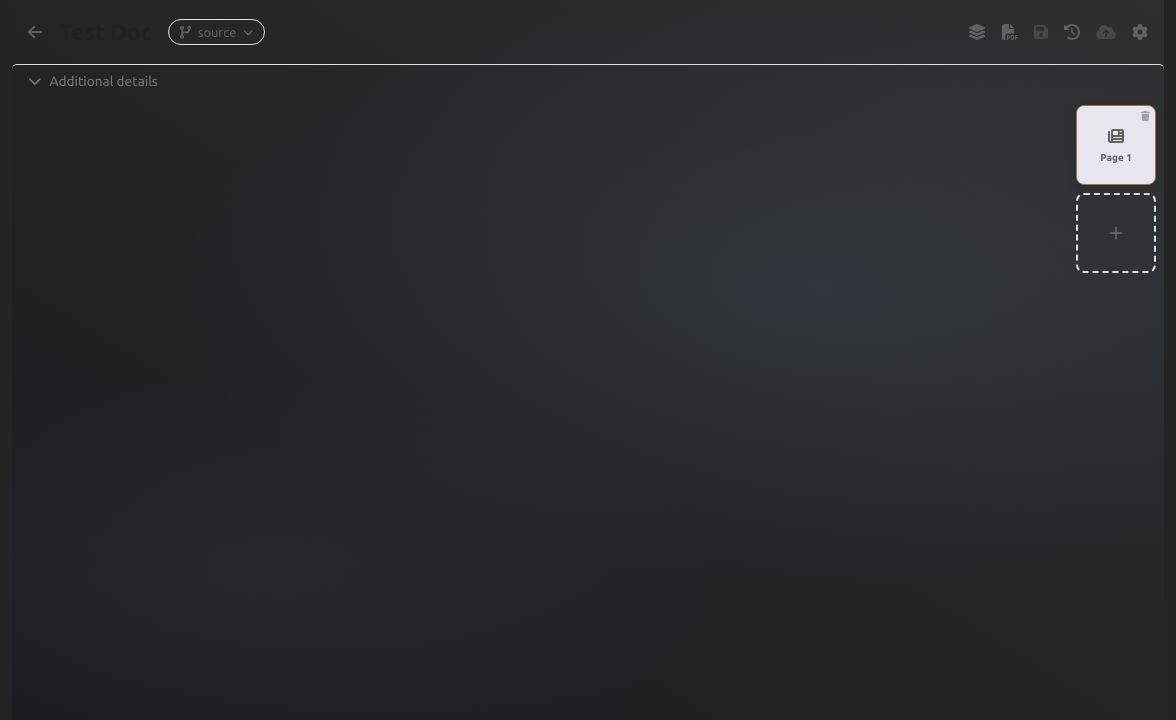
SpellEditForm › metadata editing (TCORE-103) › loads existing metadata but keeps the section collapsed until toggled
Expected: the element with test id "spell-edit-form" is shown, top-left (12, 18), bottom-right (1164, 273)
Click the button with test id "spell-metadata-toggle": [104, 81] box top-left (12, 64), bottom-right (1164, 97)
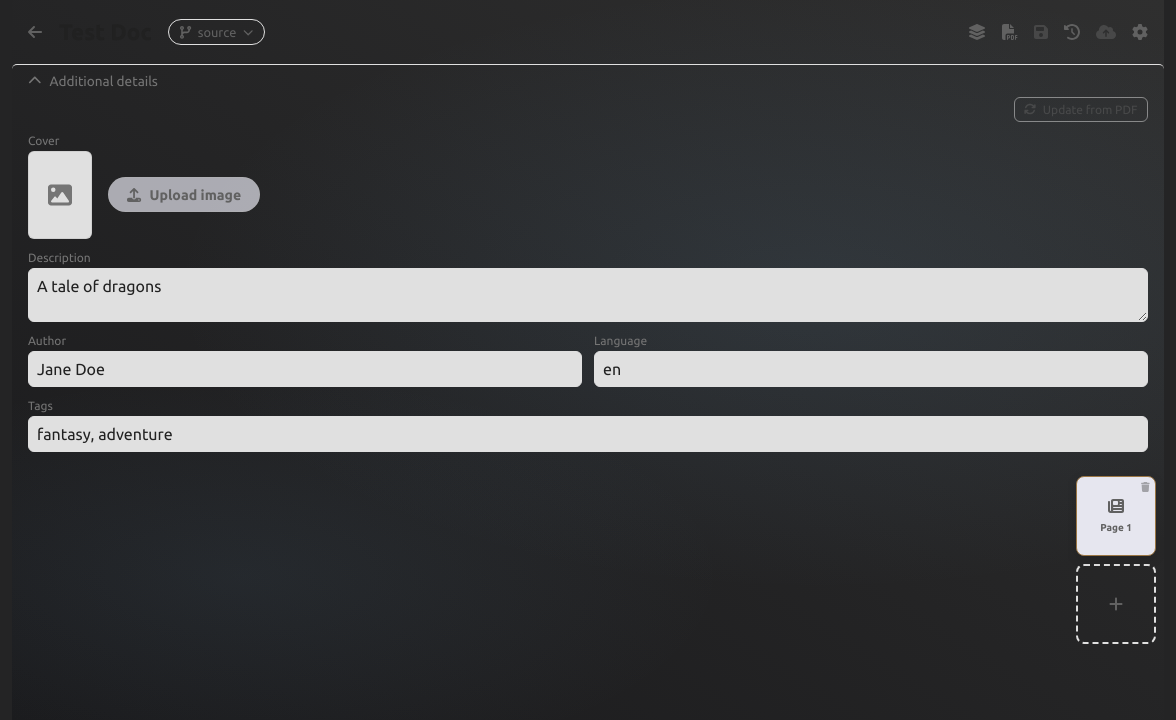
Expected: the text box with test id "spell-metadata-description" holds "A tale of dragons", top-left (28, 268), bottom-right (1148, 322)
Expected: the field with test id "spell-metadata-author" holds "Jane Doe", top-left (28, 351), bottom-right (582, 387)
Expected: the field with test id "spell-metadata-tags" holds "fantasy, adventure", top-left (28, 416), bottom-right (1148, 452)
